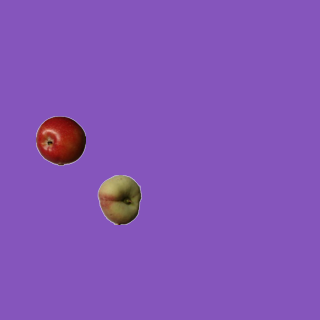Apple Braeburn: (35, 115, 85, 165)
Peach Flat: (94, 174, 144, 224)
